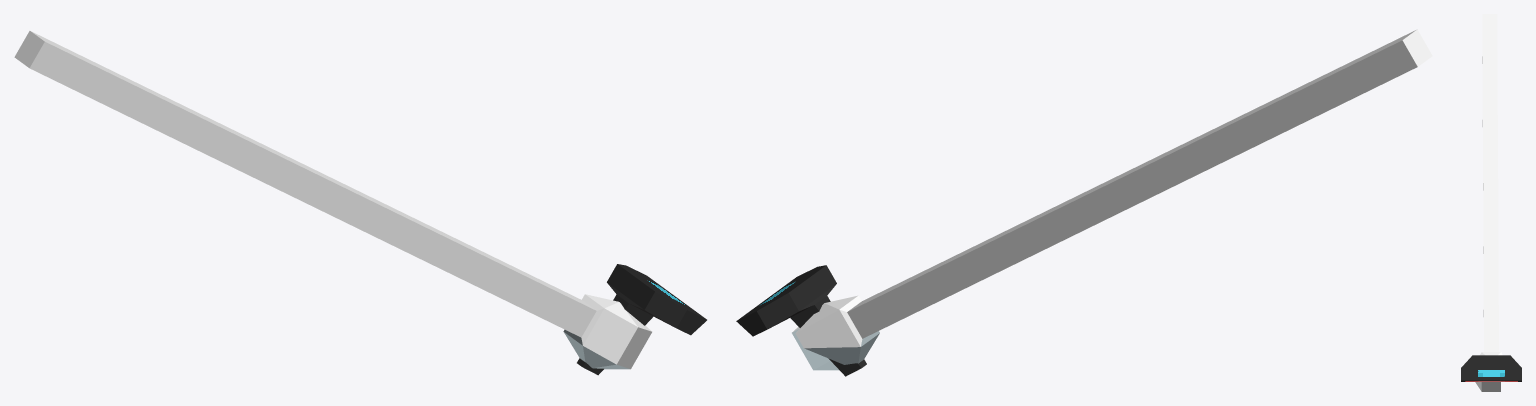
Rendered from Scanner Model.fbx.
The picture shows the model from 3 angles, left to right: view 1: azimuth 30°, elevation 25°; view 2: azimuth 150°, elevation 25°; view 3: azimuth 270°, elevation 25°; orthographic projection. The views are drawn at different scales.
Parts seen in each view (by area): view 1: cuboid; view 2: cuboid; view 3: cuboid.
Boxes of the visible parts, bbox=[...] form: cuboid: bbox=[14, 31, 706, 375]; cuboid: bbox=[736, 29, 1432, 376]; cuboid: bbox=[1461, 14, 1521, 391].
Bounding box in the file's own units: 273 × 188 × 43.75.
1 material, 1 textured.
